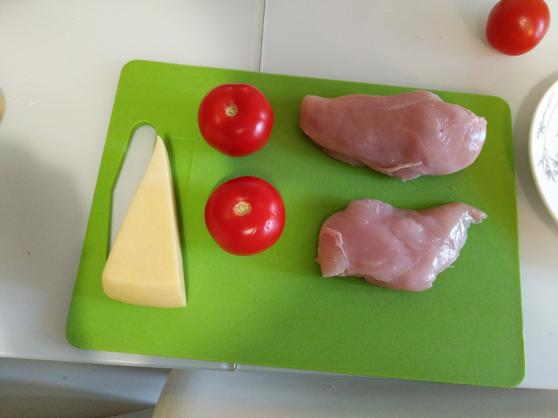cheese: (99, 134, 190, 308)
chicken_fillet: (300, 90, 488, 180), (316, 197, 489, 291)
tomato: (204, 176, 286, 255), (197, 84, 273, 157), (484, 1, 551, 55)
